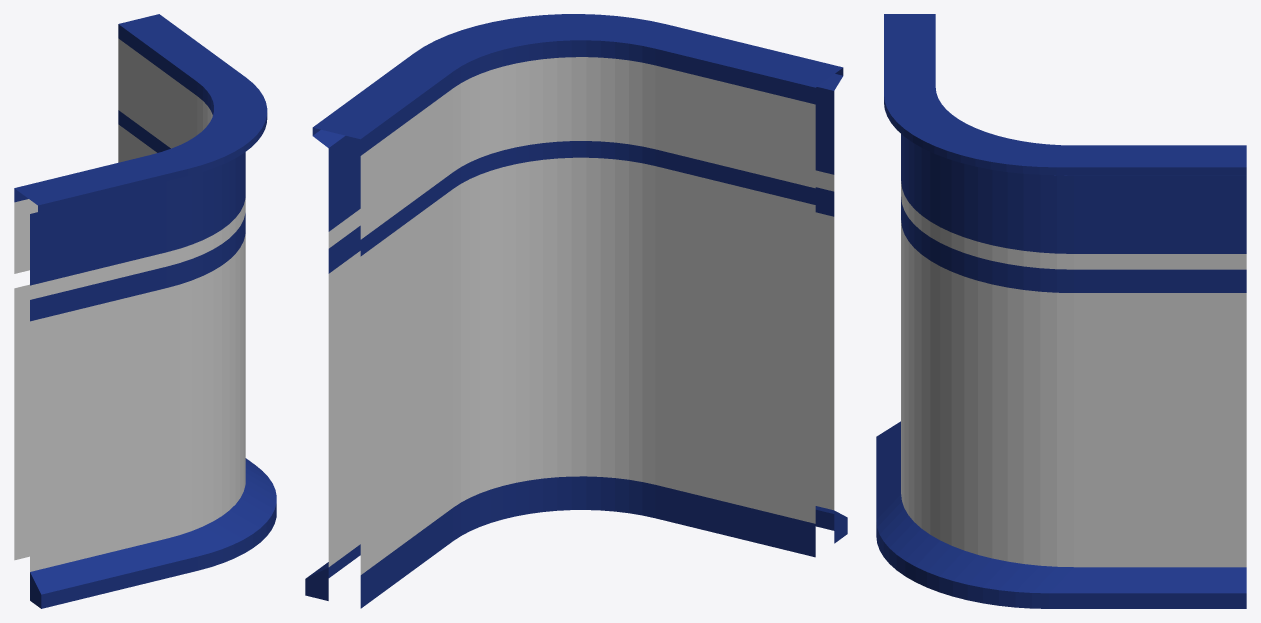
File: wall_2_corner_2_8.glb
3 renders of one model, left to right at view 1: azimuth 30°, elevation 25°; view 2: azimuth 150°, elevation 25°; view 3: azimuth 270°, elevation 25°, orthographic. The views are drawn at different scales.
Visible parts, largest first — view 1: Cube; view 2: Cube; view 3: Cube.
Part boxes in pixels (bbox=[...]): Cube: bbox=[14, 14, 276, 608]; Cube: bbox=[305, 14, 847, 608]; Cube: bbox=[876, 14, 1246, 608].
Size of the model in its own units: 2.14 by 2.8 by 2.14.
